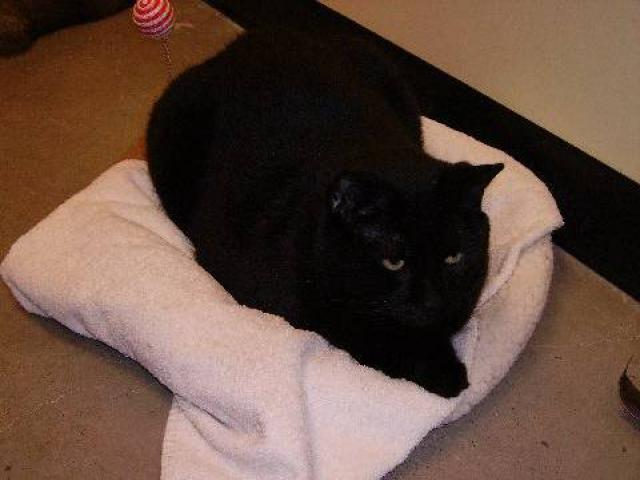cat: (203, 68, 507, 394)
